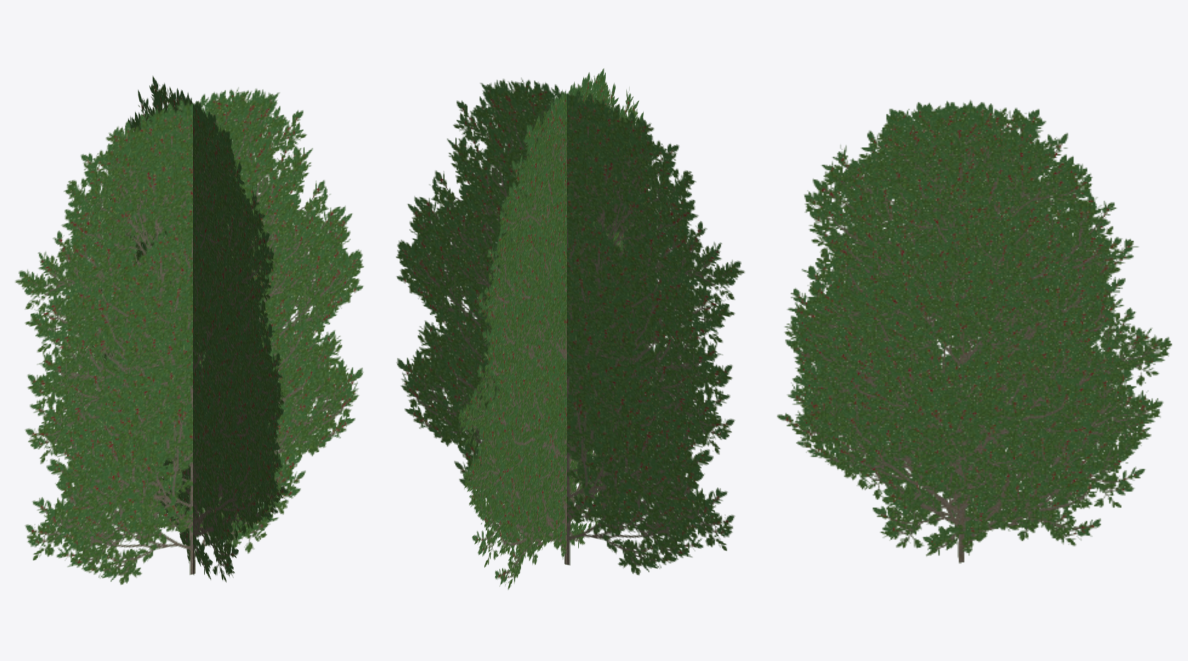
File: RhamnusAlaternus.glb
3 renders of one model, left to right at view 1: azimuth 30°, elevation 25°; view 2: azimuth 150°, elevation 25°; view 3: azimuth 270°, elevation 25°, orthographic. The views are drawn at different scales.
Visible parts, largest first — view 1: mesh__mat_billboard_5; view 2: mesh__mat_billboard_5; view 3: mesh__mat_billboard_5.
Boxes of the visible parts, x1,y1,x2,y2 form: mesh__mat_billboard_5: (15, 76, 363, 584); mesh__mat_billboard_5: (396, 68, 744, 589); mesh__mat_billboard_5: (777, 100, 1171, 563).
Size of the model in its own units: 3.14 by 4.12 by 3.19.
1 material, 1 textured.
